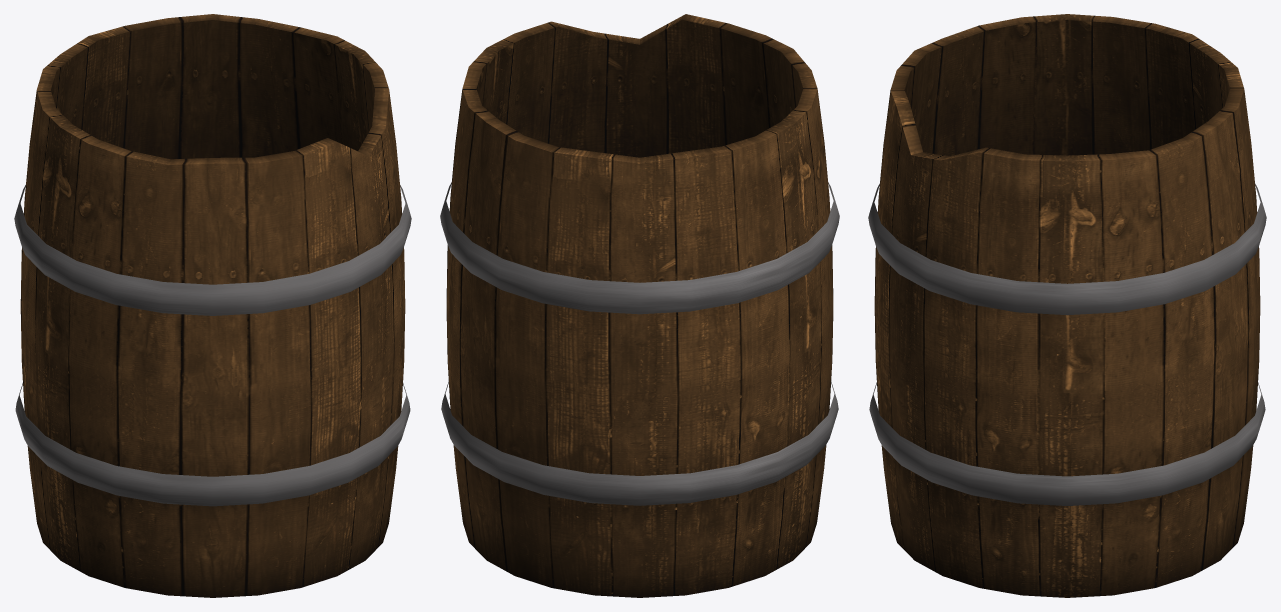
The model's file is mm8_deco_barrel.glb.
3 views of the same model, side by side, from view 1: azimuth 30°, elevation 25°; view 2: azimuth 150°, elevation 25°; view 3: azimuth 270°, elevation 25° (orthographic).
Parts seen in each view (by area): view 1: Barrel; view 2: Barrel; view 3: Barrel.
Part boxes in pixels (x1,y1,x2,y2): Barrel: (14, 14, 411, 597); Barrel: (440, 14, 839, 597); Barrel: (868, 14, 1266, 597).
Bounding box in the file's own units: 0.6198 × 0.7492 × 0.6198.
Materials: 1 (1 with a texture image).
